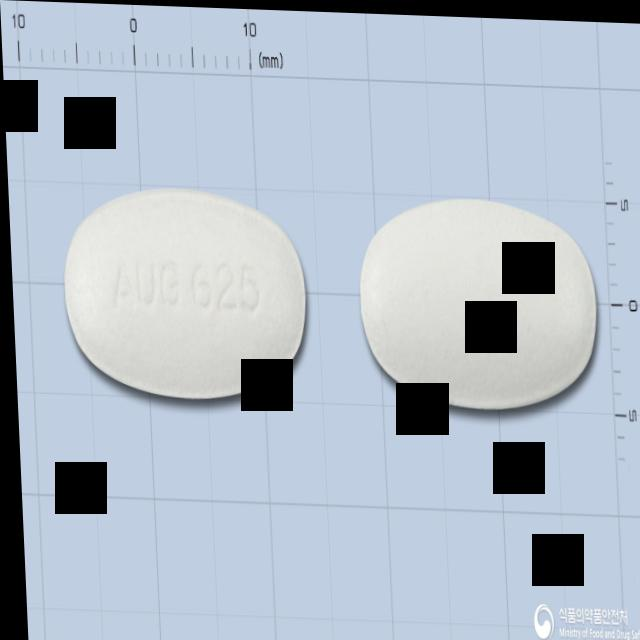Ilsung Augmentin: (58, 182, 308, 403), (354, 192, 599, 407)
